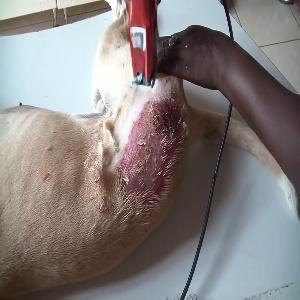skin_lesions: (113, 97, 189, 199)
